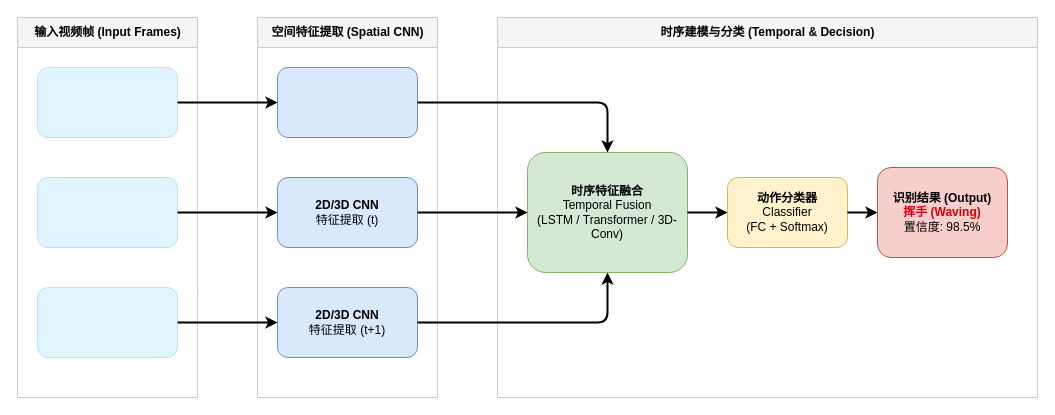
Some shapes in this 1055 by 415 pixel diagram are drawn without their labels. The shapes that lost their labels are listed below. From the top down, each one's box as (x1, y1, x2, y2) in pixels, then its label:
(36, 66, 178, 138): 视频帧 t-1 Frame t-1
(276, 66, 418, 138): 2D/3D CNN 特征提取 (t-1)
(36, 176, 178, 248): 视频帧 t Frame t
(36, 286, 178, 358): 视频帧 t+1 Frame t+1
